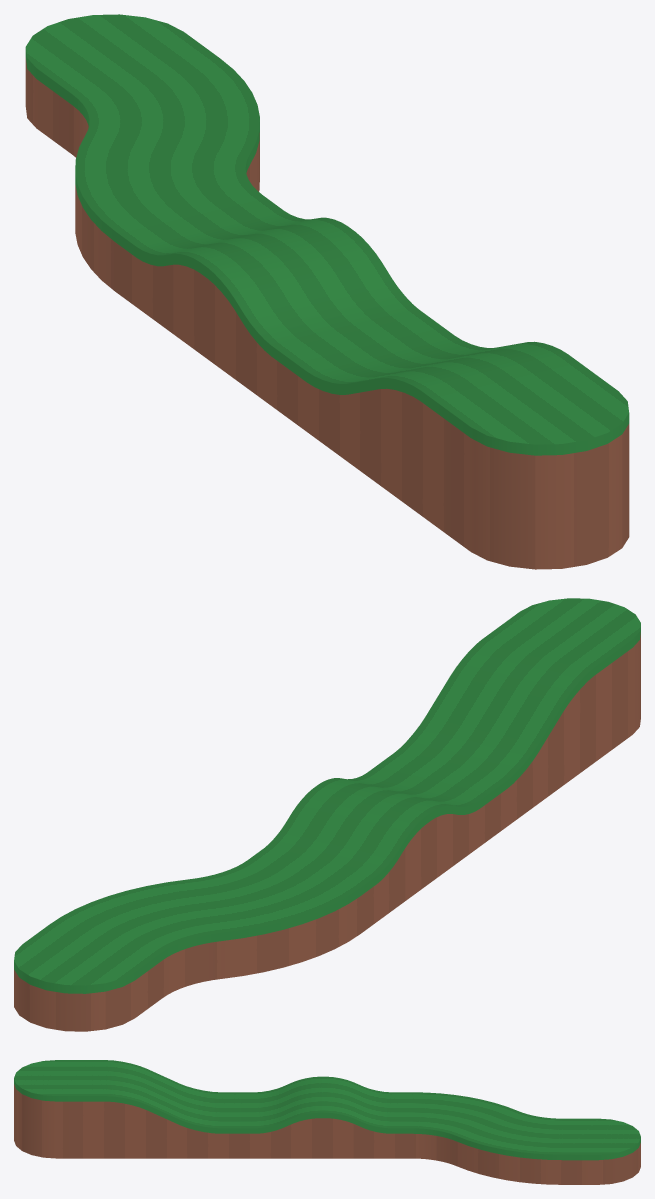
The model's file is testlevel.glb.
The picture shows the model from 3 angles, top to bottom: view 1: azimuth 30°, elevation 25°; view 2: azimuth 150°, elevation 25°; view 3: azimuth 270°, elevation 25°; orthographic projection. The views are drawn at different scales.
Visible parts, largest first — view 1: Level2; view 2: Level2; view 3: Level2.
Part boxes in pixels (x1,y1,x2,y2): Level2: (25, 14, 629, 569); Level2: (14, 598, 640, 1031); Level2: (14, 1060, 640, 1184).
Size of the model in its own units: 20.79 by 9.69 by 88.24.
Materials: 2 (2 with a texture image).
